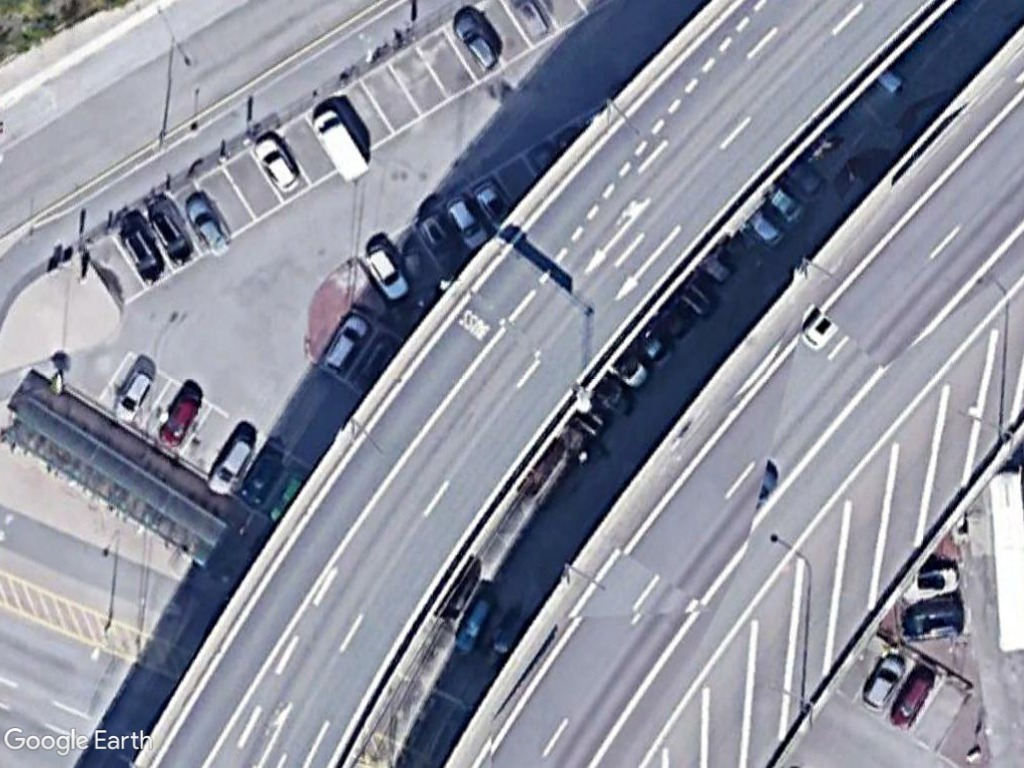car: (245, 128, 302, 199), (203, 426, 256, 502), (316, 310, 375, 378), (450, 8, 506, 77), (884, 666, 940, 735), (856, 650, 913, 717), (180, 189, 232, 260), (154, 382, 205, 454), (358, 240, 414, 305), (107, 358, 160, 425), (443, 189, 490, 255)
van: (305, 107, 374, 186)
